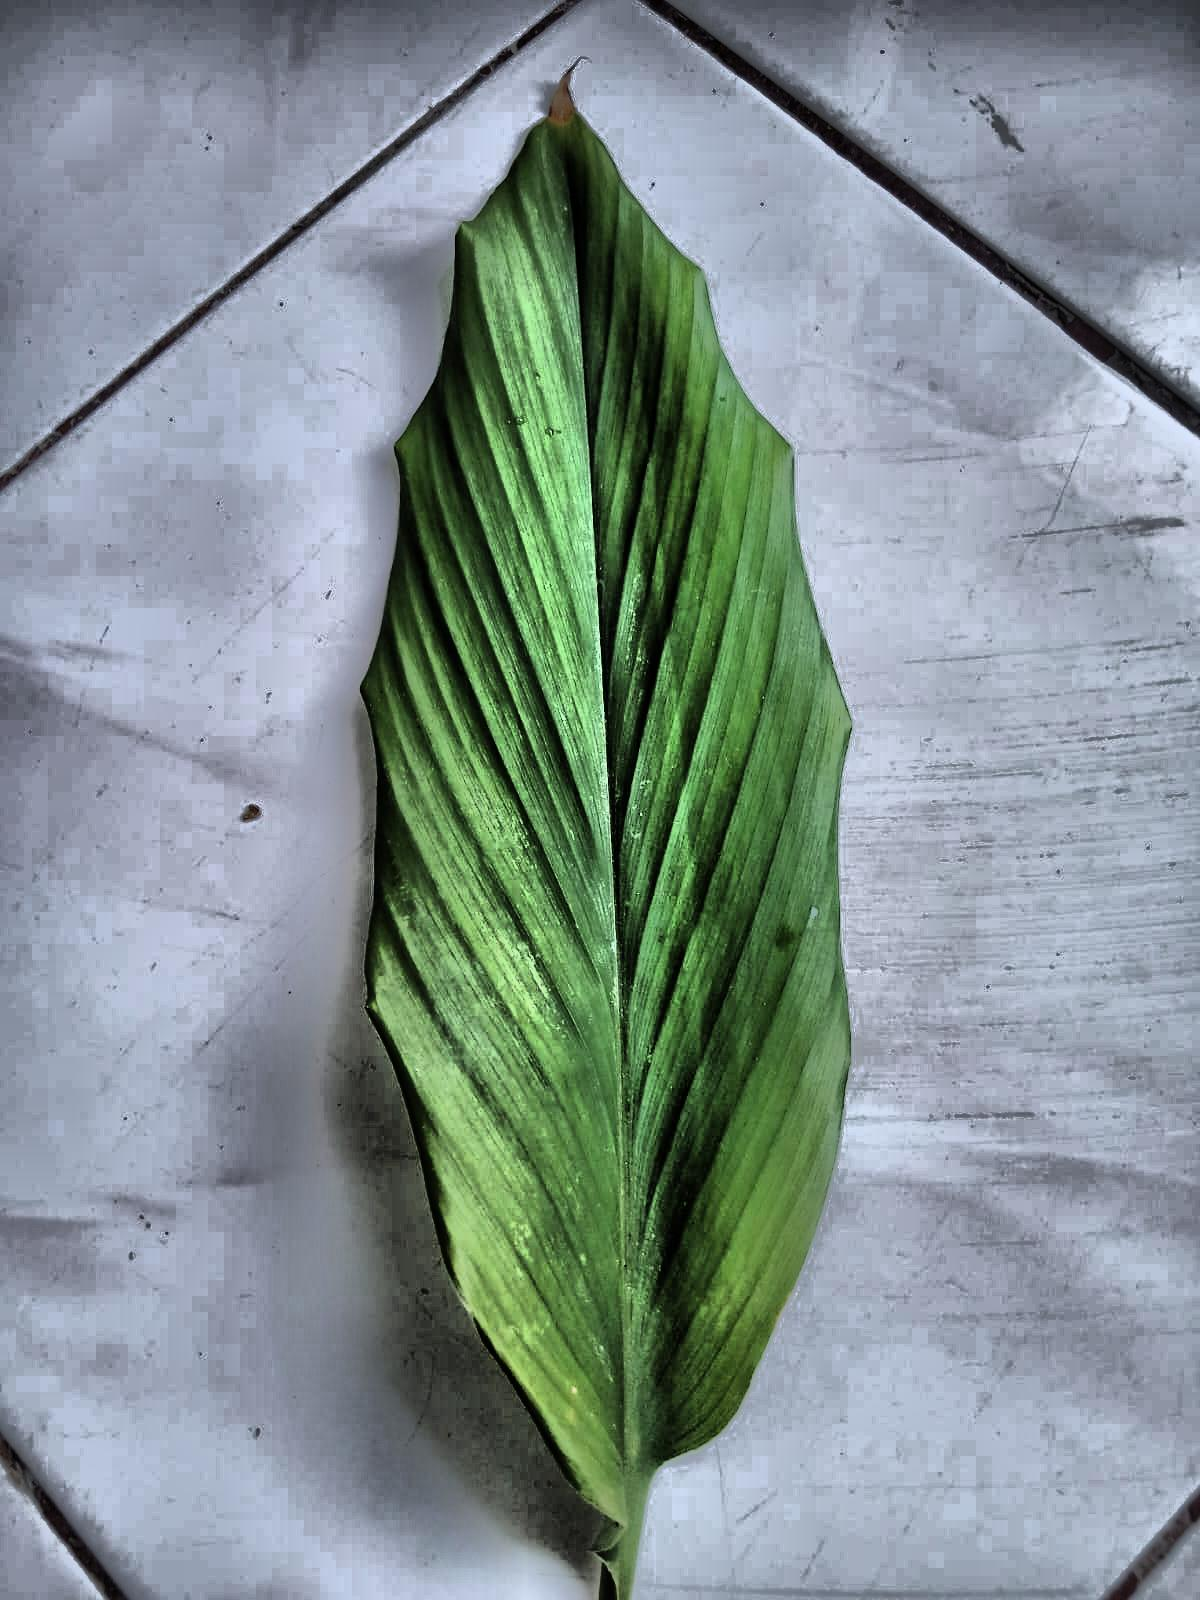daun kunyit: (362, 83, 850, 1599)
